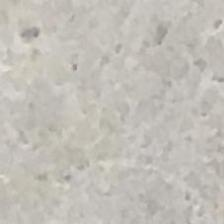Non_Crack: (18, 73, 224, 189)
